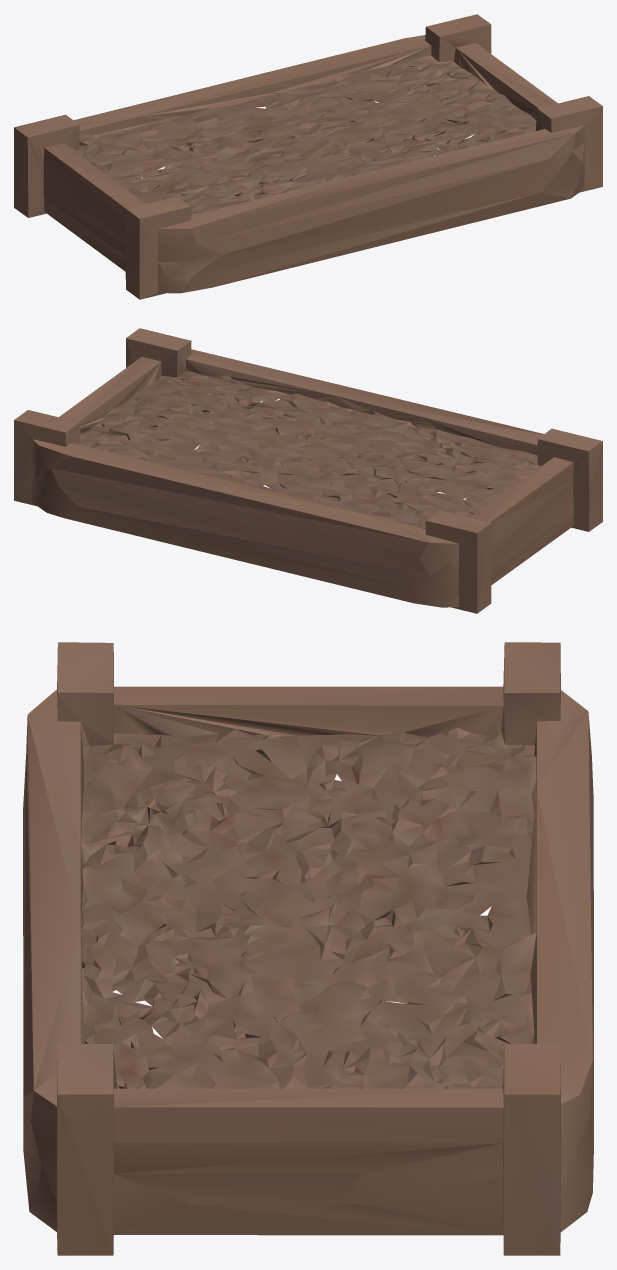
File: raised_bed.glb
The picture shows the model from 3 angles, top to bottom: view 1: azimuth 30°, elevation 25°; view 2: azimuth 150°, elevation 25°; view 3: azimuth 270°, elevation 25°; orthographic projection. The views are drawn at different scales.
Visible parts, largest first — view 1: geometry_0; view 2: geometry_0; view 3: geometry_0.
Boxes of the visible parts, x1=… form: geometry_0: x1=14, y1=14, x2=602, y2=299; geometry_0: x1=14, y1=328, x2=602, y2=613; geometry_0: x1=23, y1=642, x2=593, y2=1255.
Size of the model in its own units: 3 by 0.5 by 1.6.
